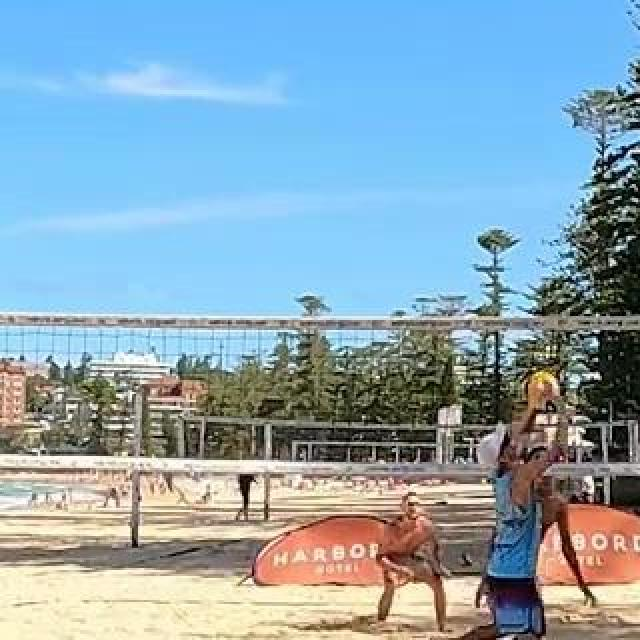volleyball: (522, 371, 560, 409)
